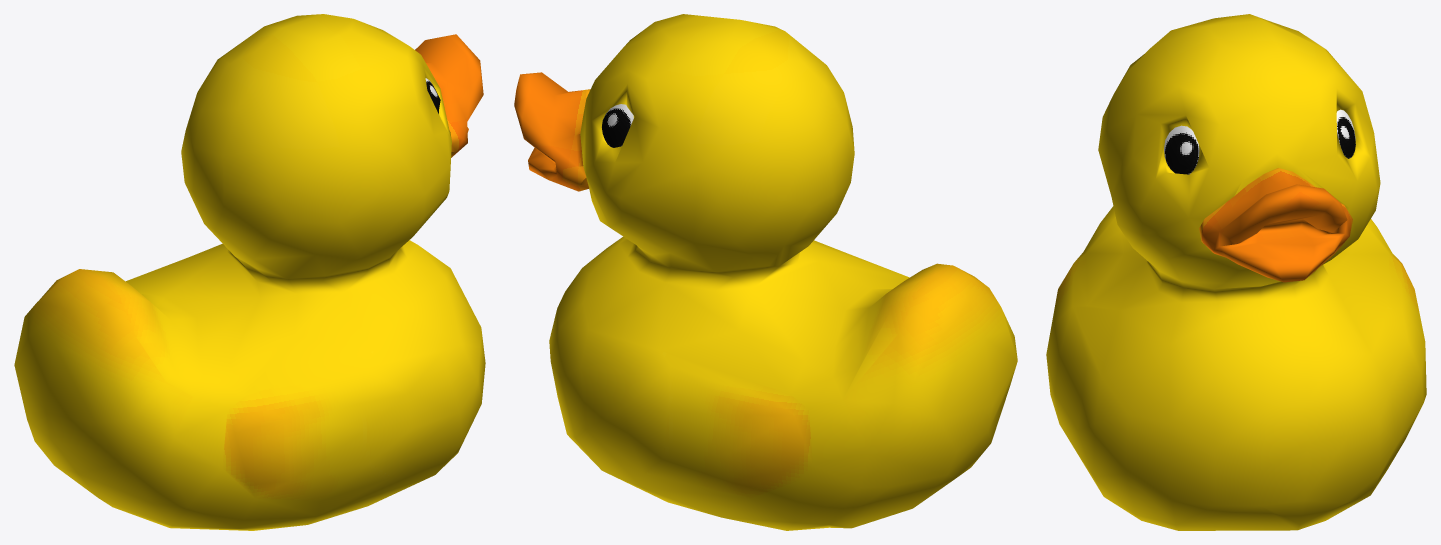
Rendered from Duck.lod2.glb.
3 renders of one model, left to right at view 1: azimuth 30°, elevation 25°; view 2: azimuth 150°, elevation 25°; view 3: azimuth 270°, elevation 25°, orthographic. The views are drawn at different scales.
Parts seen in each view (by area): view 1: LOD3spShape; view 2: LOD3spShape; view 3: LOD3spShape.
Part boxes in pixels (<box>): LOD3spShape: <box>14,14,485,530</box>; LOD3spShape: <box>514,14,1017,530</box>; LOD3spShape: <box>1046,14,1426,530</box>.
Bounding box in the file's own units: 1.65 × 1.53 × 1.14.
1 material, 1 textured.
